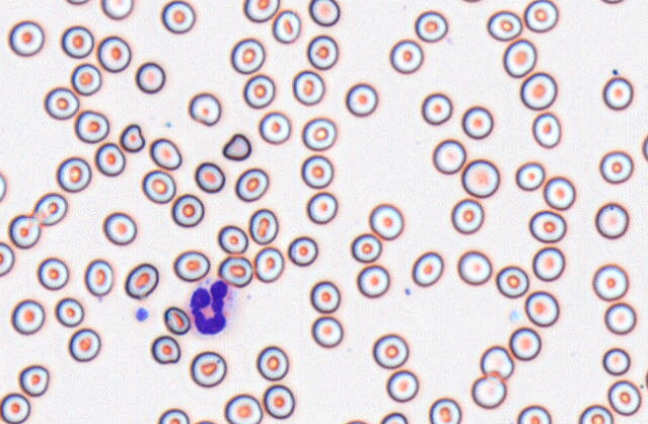GRAN: (186, 277, 239, 338)
PLT: (134, 307, 150, 322)
RBC: (461, 158, 499, 198), (519, 71, 557, 110), (7, 19, 44, 57), (592, 263, 629, 301), (189, 350, 226, 387), (368, 202, 404, 240), (594, 201, 629, 239), (502, 38, 536, 77), (56, 156, 92, 192), (372, 333, 408, 369), (524, 290, 559, 327), (230, 37, 265, 74), (528, 209, 566, 243), (470, 374, 506, 409), (10, 299, 45, 335), (457, 249, 492, 285), (301, 116, 337, 151), (97, 35, 131, 72), (124, 262, 158, 299), (607, 379, 641, 416), (141, 169, 176, 204), (234, 167, 269, 202), (43, 86, 79, 120), (432, 138, 466, 174), (160, 0, 196, 34), (389, 38, 423, 74), (450, 198, 484, 234), (32, 192, 67, 226), (74, 109, 109, 143), (102, 211, 137, 245), (256, 345, 289, 381), (173, 250, 210, 282), (223, 393, 262, 423), (599, 150, 633, 184), (262, 384, 295, 419), (68, 327, 101, 362), (532, 246, 565, 281), (242, 73, 275, 108), (345, 82, 378, 117), (292, 69, 324, 105), (411, 251, 443, 287), (217, 255, 253, 287), (523, 0, 559, 32), (306, 34, 338, 70), (495, 265, 529, 298), (356, 264, 389, 298), (508, 327, 541, 361), (171, 193, 204, 227), (60, 25, 94, 58), (300, 154, 333, 188), (258, 110, 291, 144), (188, 92, 221, 126), (8, 214, 40, 249), (543, 175, 575, 210), (486, 10, 522, 41), (253, 246, 284, 282), (531, 111, 561, 148), (84, 258, 113, 296), (36, 257, 69, 290), (310, 315, 343, 348), (414, 10, 448, 42), (461, 105, 493, 139), (602, 75, 633, 110), (248, 208, 278, 244), (420, 92, 452, 125), (386, 369, 418, 402), (149, 137, 181, 170), (604, 302, 636, 335), (94, 142, 125, 176), (70, 62, 101, 95), (309, 280, 340, 313), (306, 191, 337, 224), (350, 232, 382, 263), (18, 364, 49, 396), (194, 161, 225, 193), (135, 61, 165, 94), (272, 9, 301, 43), (0, 392, 31, 423), (287, 235, 318, 266), (217, 224, 248, 254), (514, 161, 545, 191), (54, 297, 84, 327), (150, 335, 180, 364), (428, 397, 461, 423), (601, 347, 630, 376), (163, 305, 191, 335), (308, 0, 340, 26), (243, 0, 280, 22), (516, 404, 551, 423), (578, 404, 613, 423), (100, 0, 133, 20), (0, 241, 14, 276), (157, 408, 189, 423), (379, 411, 408, 423), (0, 172, 6, 202), (642, 133, 647, 161), (343, 418, 371, 423), (65, 0, 90, 5), (598, 0, 627, 4), (193, 419, 217, 423), (644, 367, 648, 390), (457, 0, 484, 3)
Schistocyte: (480, 345, 516, 379), (222, 133, 252, 161), (120, 123, 145, 152)
